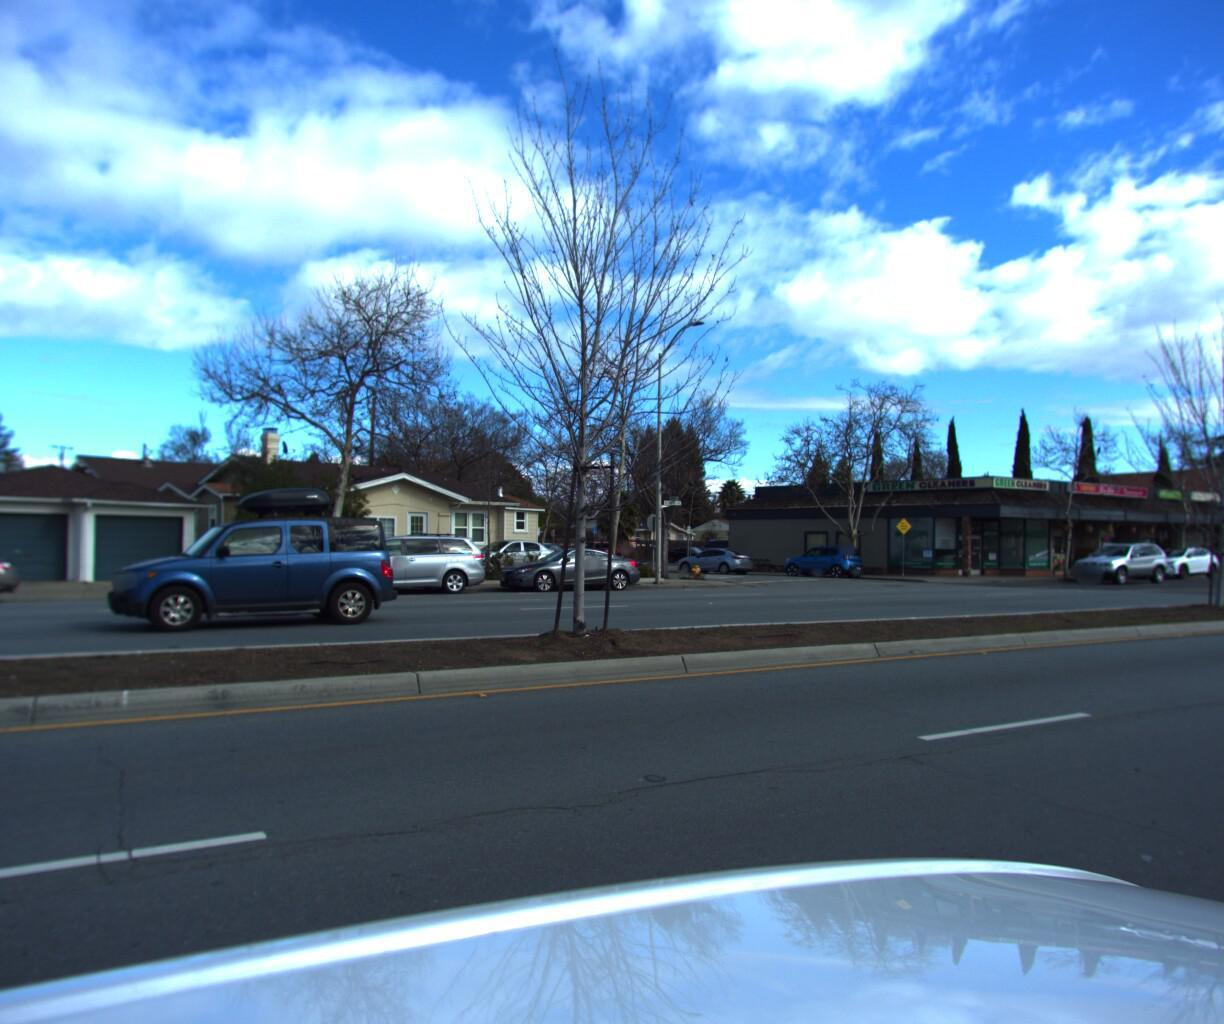car: (91, 478, 413, 634), (296, 528, 494, 598), (490, 544, 652, 591), (1063, 533, 1174, 580), (443, 535, 567, 573), (1128, 540, 1221, 574), (781, 542, 871, 574), (671, 544, 761, 573), (0, 541, 25, 612), (570, 538, 628, 561)
